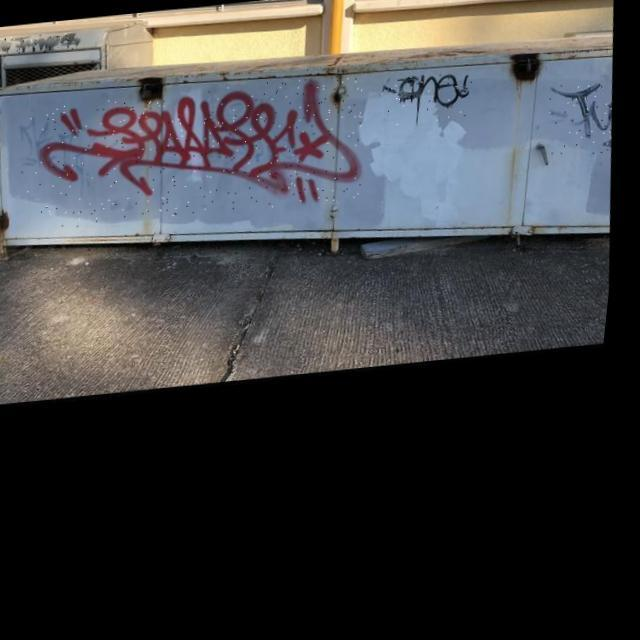-: (32, 74, 376, 230), (13, 108, 128, 204), (544, 81, 621, 166), (378, 68, 478, 130), (0, 27, 84, 59)
